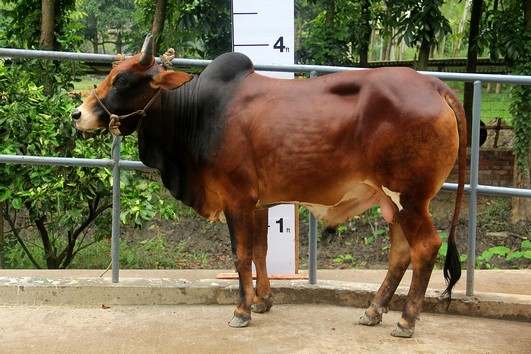cow: (61, 29, 469, 340)
